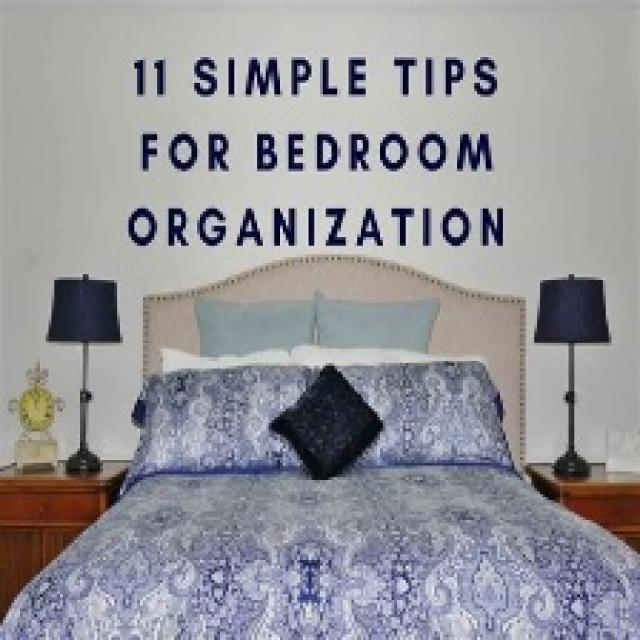Bed: (0, 252, 637, 637)
